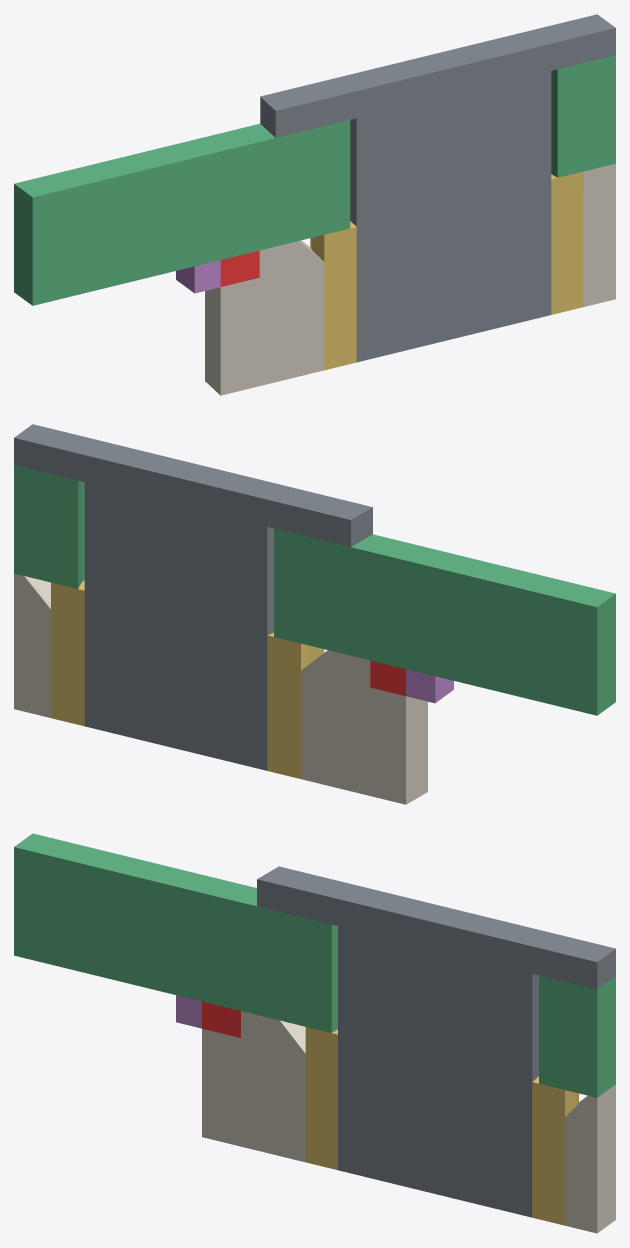
File: short-component-boss-collision-0p4mm.actual.glb
The picture shows the model from 3 angles, top to bottom: view 1: azimuth 30°, elevation 25°; view 2: azimuth 150°, elevation 25°; view 3: azimuth 330°, elevation 25°; orthographic projection.
Parts seen in each view (by area): view 1: EN1.H1.screw, board, base, EN1.H1.insert, intersection-highlight, C1; view 2: EN1.H1.screw, board, base, EN1.H1.insert, C1, intersection-highlight; view 3: EN1.H1.screw, board, base, EN1.H1.insert, intersection-highlight, C1.
Part boxes in pixels (box(x1,y1,x2,y2)): EN1.H1.screw: box(260, 14, 615, 362); board: box(14, 55, 615, 305); base: box(205, 163, 615, 395); EN1.H1.insert: box(310, 171, 583, 370); intersection-highlight: box(220, 250, 259, 286); C1: box(176, 260, 220, 293); EN1.H1.screw: box(14, 424, 372, 770); board: box(14, 465, 615, 715); base: box(14, 573, 427, 804); EN1.H1.insert: box(51, 580, 324, 778); C1: box(406, 669, 453, 703); intersection-highlight: box(370, 660, 405, 695); EN1.H1.screw: box(257, 866, 615, 1217); board: box(14, 833, 615, 1097); base: box(202, 1011, 615, 1233); EN1.H1.insert: box(305, 1027, 578, 1225); intersection-highlight: box(202, 1001, 240, 1037); C1: box(176, 995, 201, 1028).
Size of the model in its own units: 9 by 4 by 0.5.
